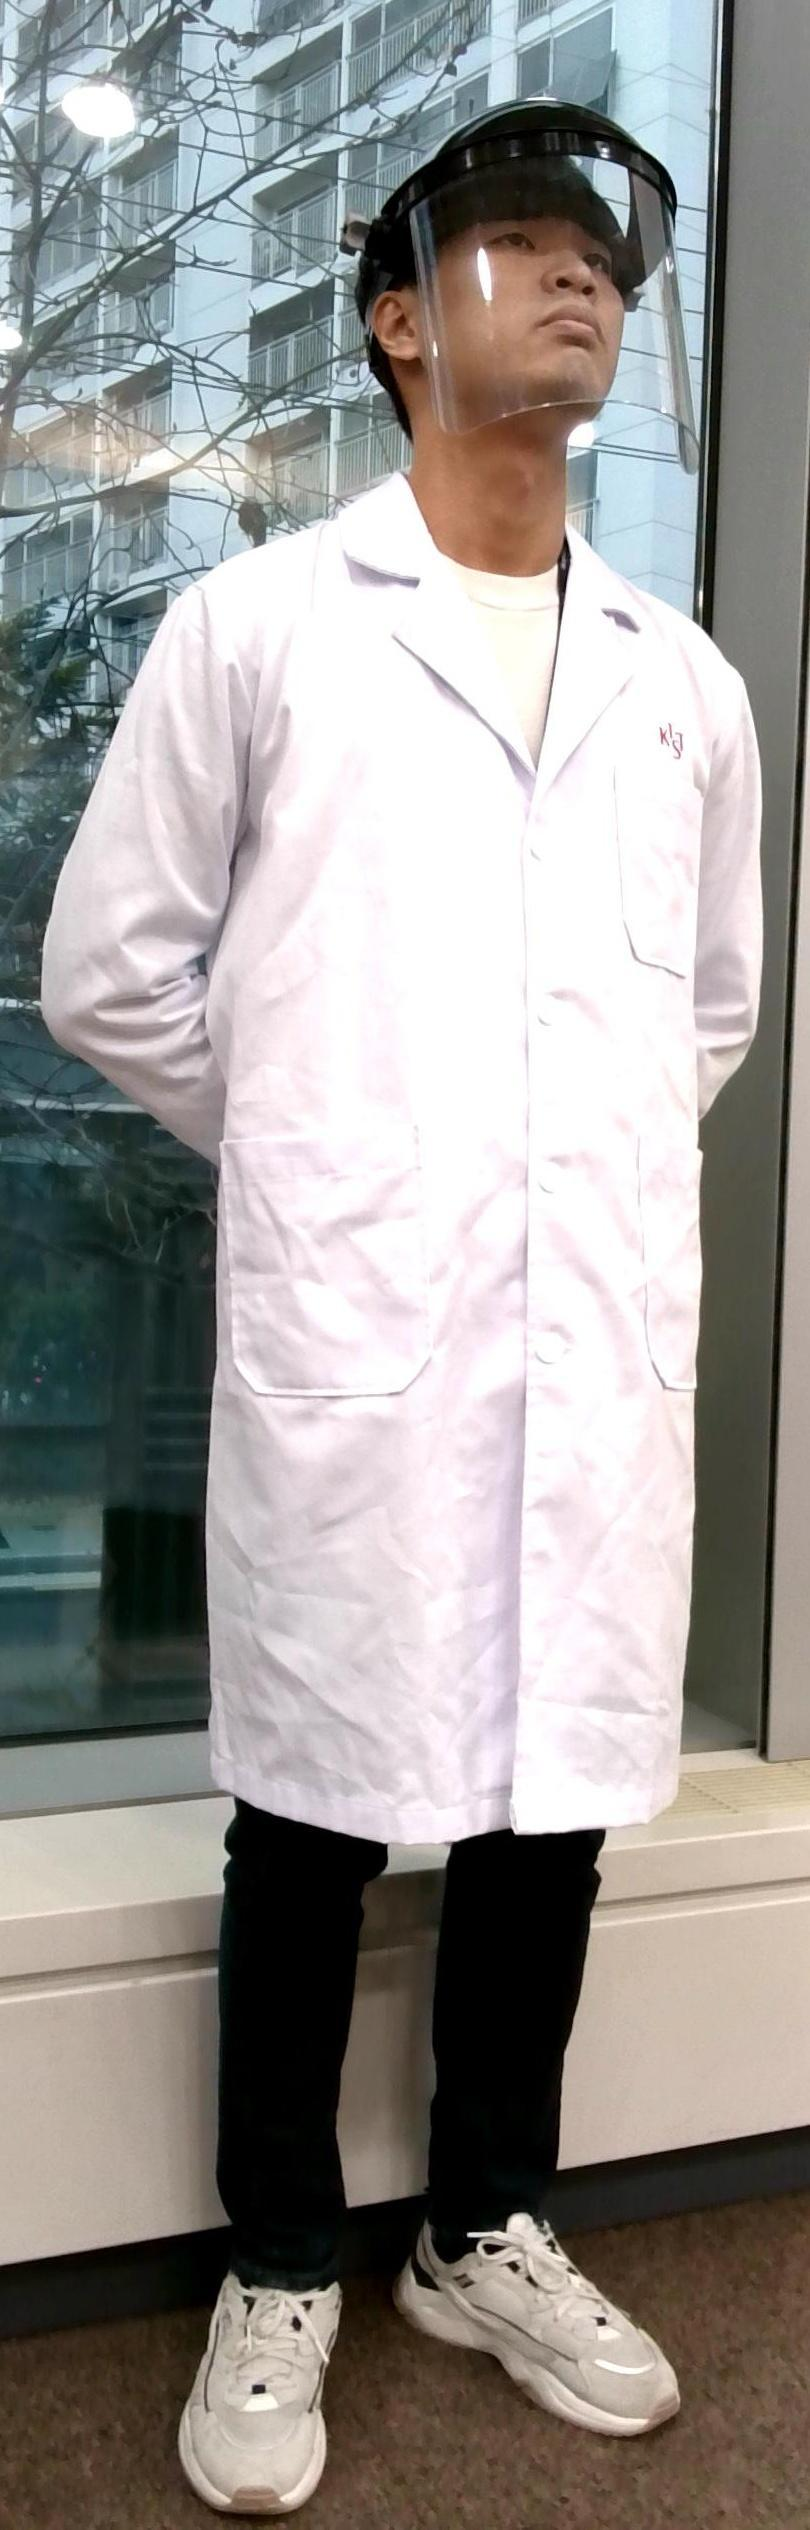lab_coat: (144, 557, 791, 1830)
